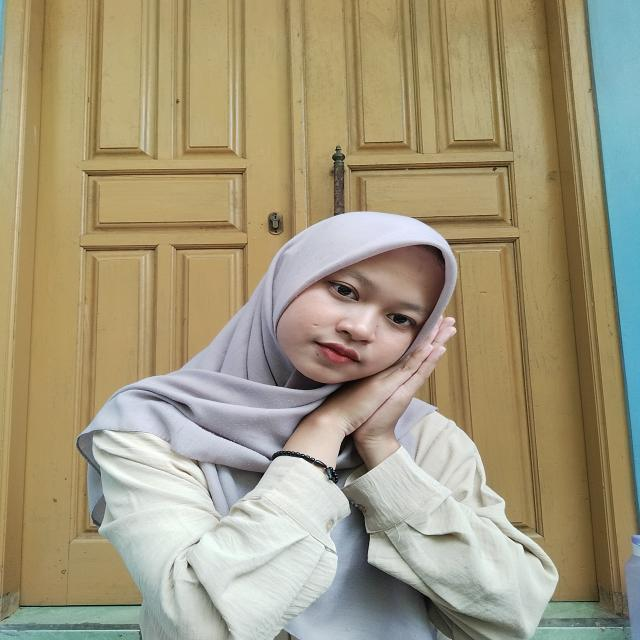tidur: (255, 312, 463, 494)
